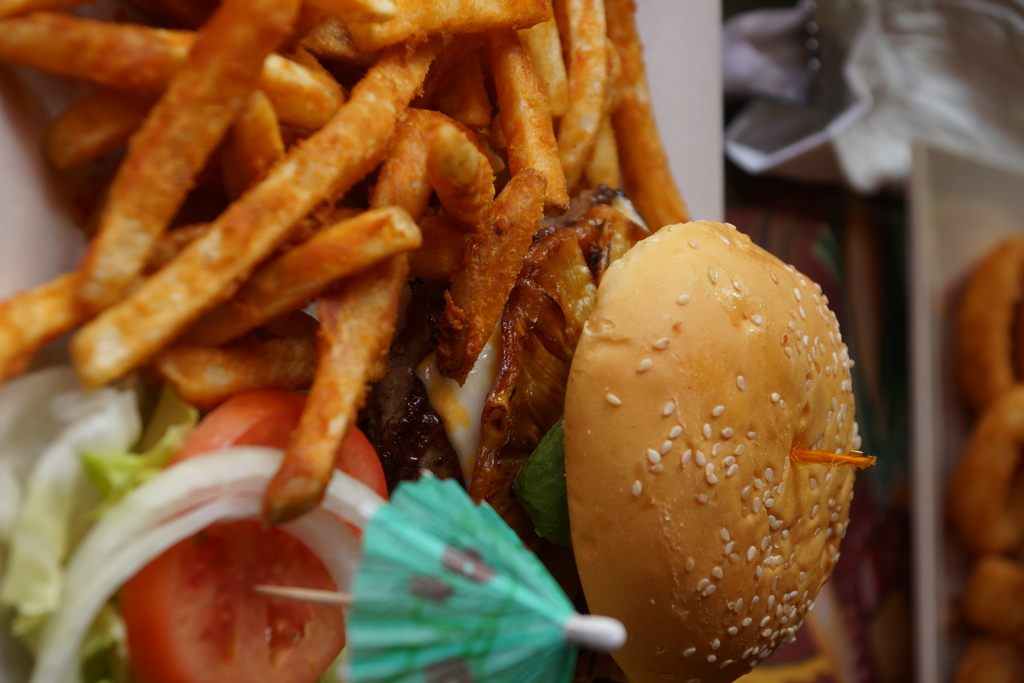French fries: (3, 5, 739, 622)
